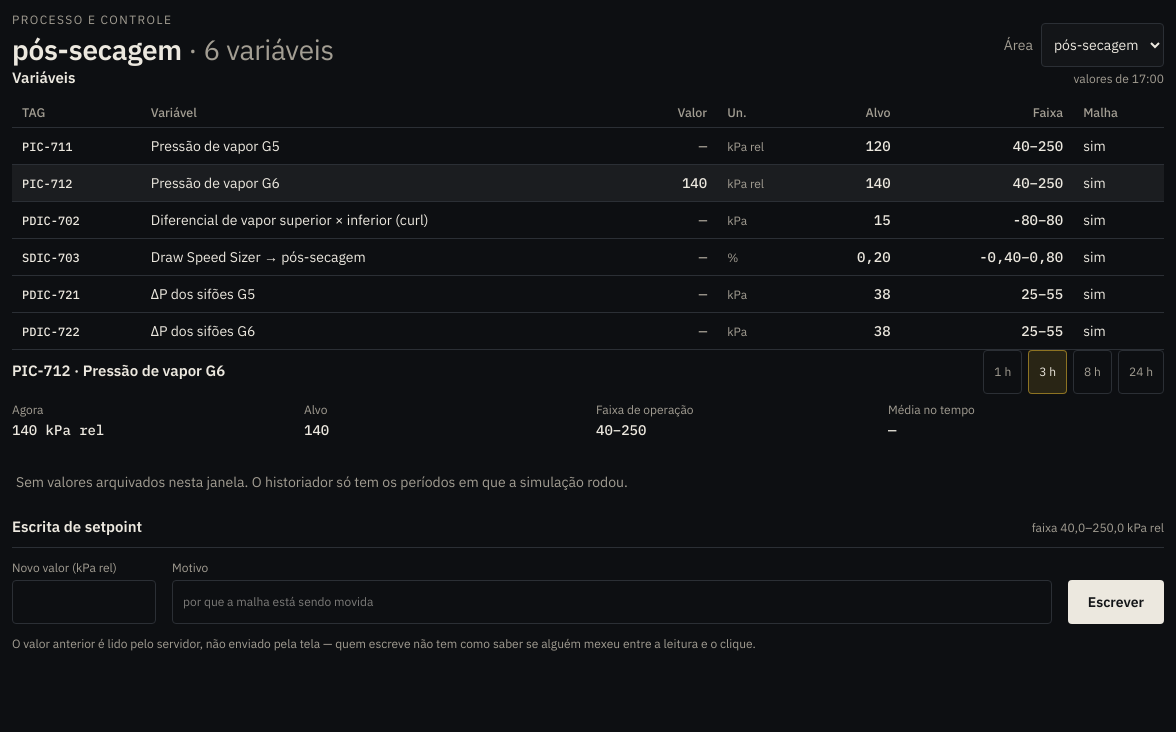
Test case: Processo · escrita de setpoint › mostra a recusa da API com as palavras dela
Expected: the button "Escrever" is shown, x1=1068 y1=580 x2=1164 y2=624
Type "400" into the field labelled "Novo valor (kPa rel)" at (84, 602), box x1=12 y1=580 x2=156 y2=624
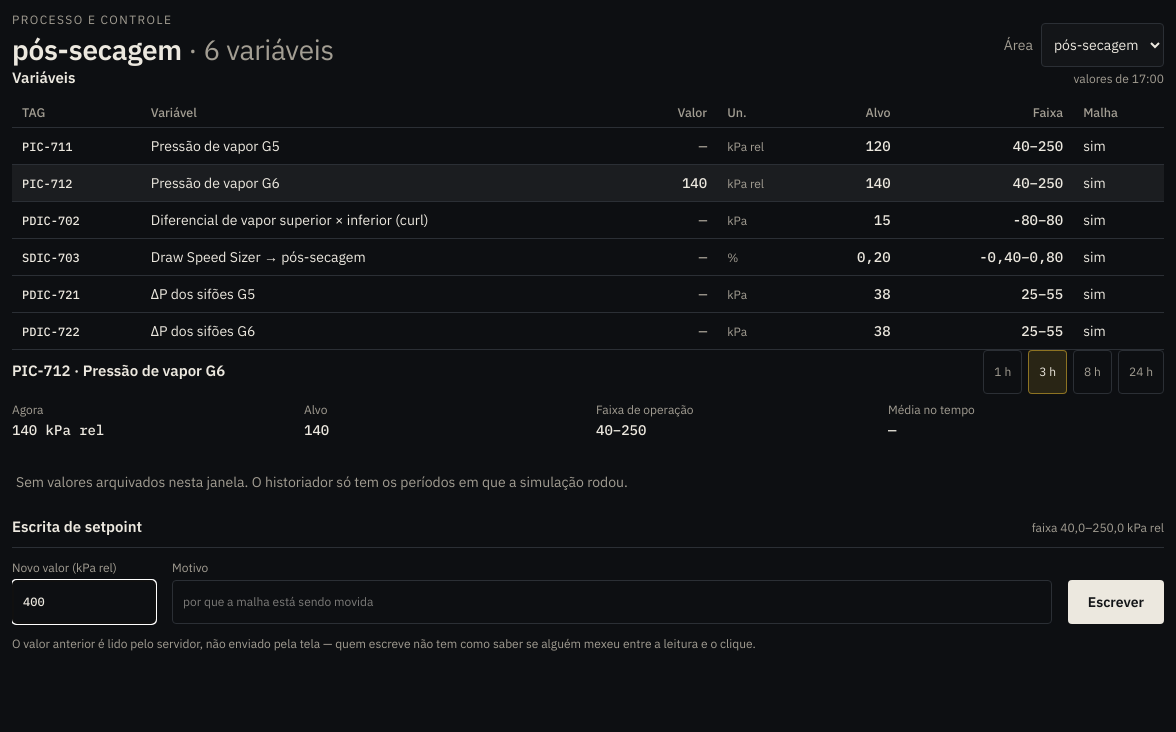
Type "quero secar mais" into the field labelled "Motivo" at (612, 602), box x1=172 y1=580 x2=1052 y2=624
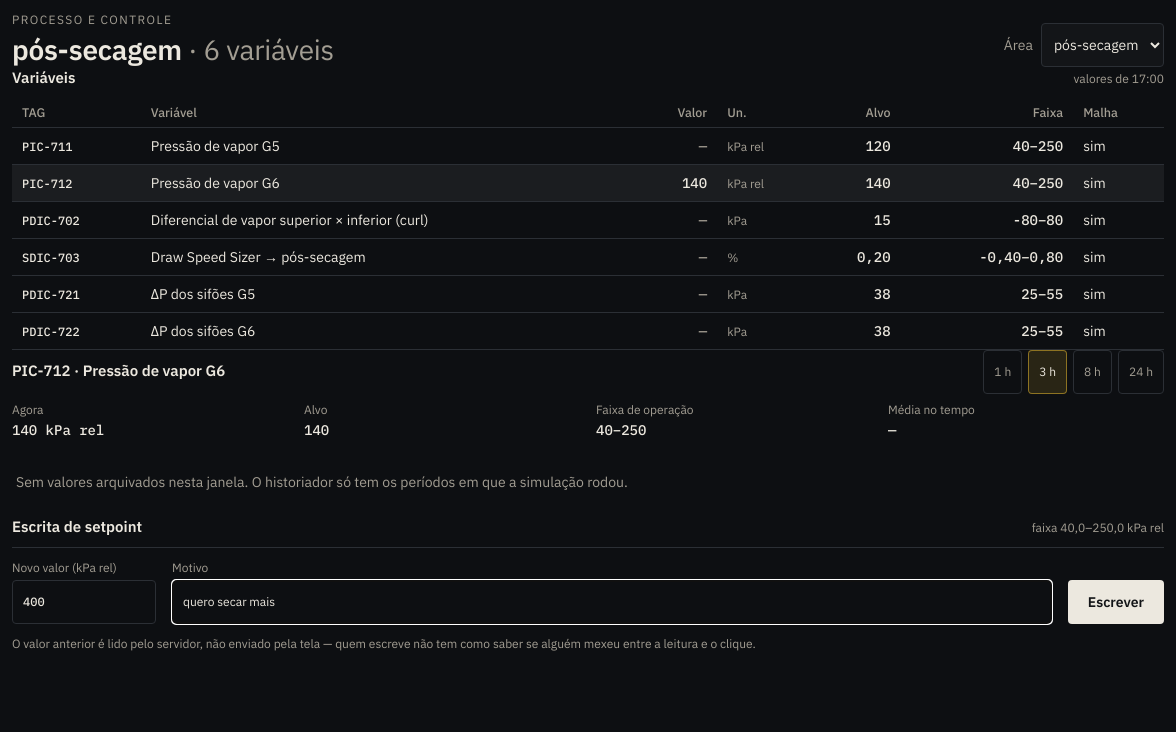
Click the button "Escrever" at (1116, 602), box x1=1068 y1=580 x2=1164 y2=624
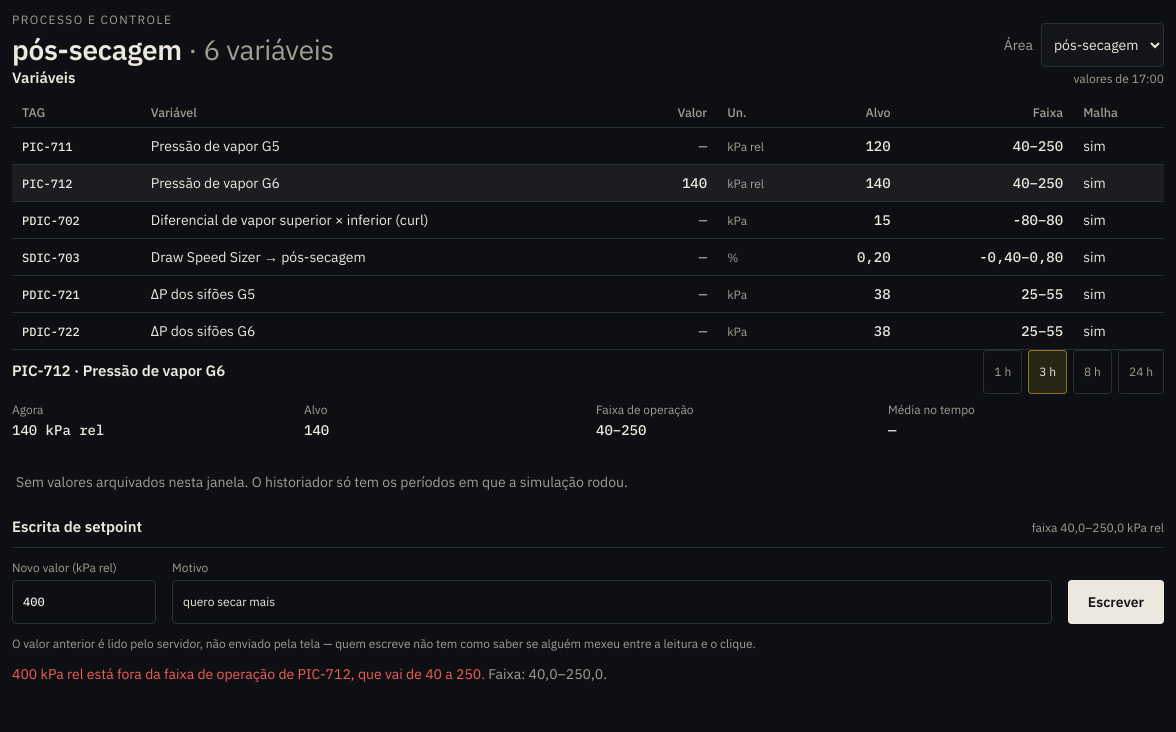
Expected: the 2nd message shows "fora da faixa de operação", x1=12 y1=665 x2=485 y2=683
